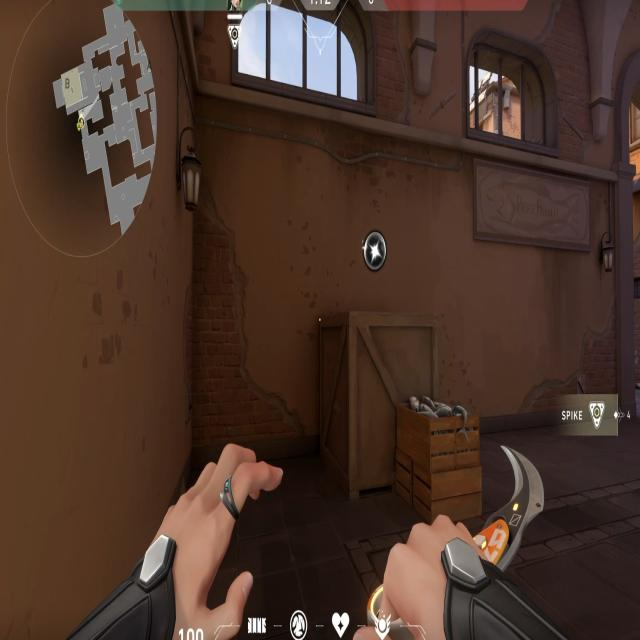B_Main_Wallbang: (302, 216, 490, 538)
Throwables: (214, 0, 395, 122), (453, 22, 568, 170)
